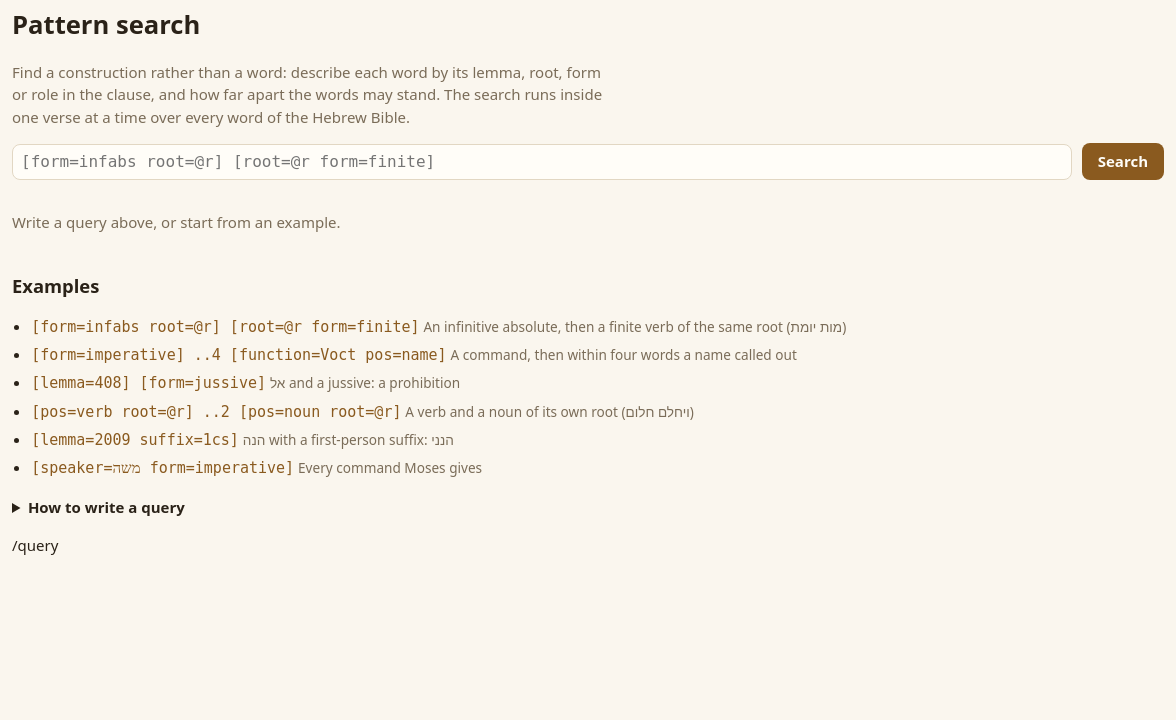
Scenario: QueryPage › asks for a query, runs an example and lists the verses with the matched words marked
Check: the text "Write a query above, or start from an example." is shown, box left=12, top=212, right=340, bottom=232
Click the button "[form=infabs root=@r] [root=@r form=finite]" at (225, 326), box left=31, top=315, right=420, bottom=338
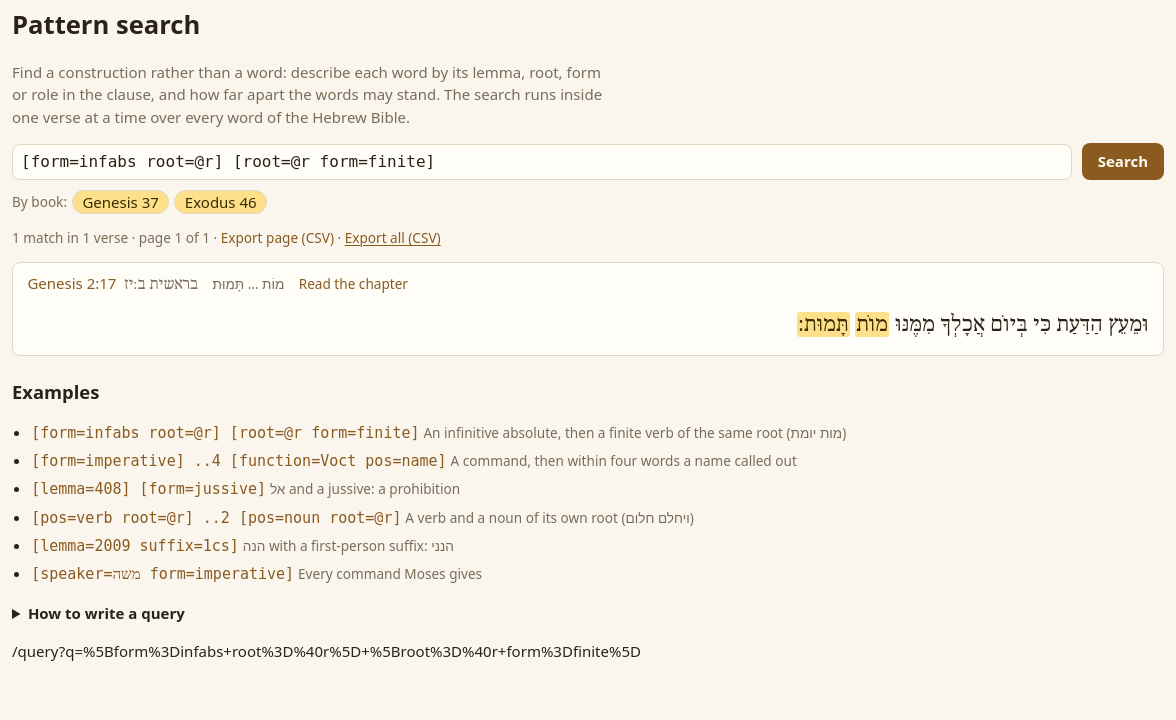
Check: the text with test id "loc" reads "/query?q=%5Bform%3Dinfabs+root%3D%40r%5D+%5Broot%3D%40r+form%3Dfinite%5D", box left=12, top=641, right=641, bottom=661
Check: the text "1 match in 1 verse" is shown, box left=12, top=228, right=128, bottom=247
Check: the search field named "Query" holds "[form=infabs root=@r] [root=@r form=finite]", box left=12, top=144, right=1072, bottom=180
